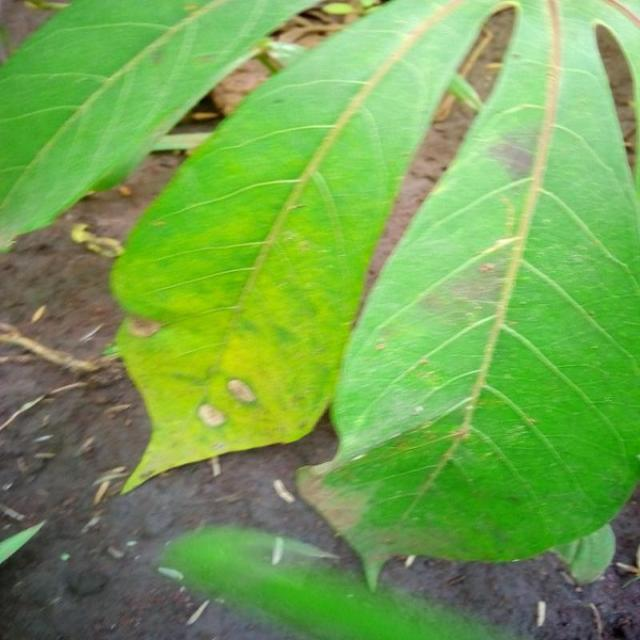cassava leaf: (104, 0, 521, 496), (294, 0, 640, 592), (1, 0, 326, 253), (156, 519, 534, 638)
